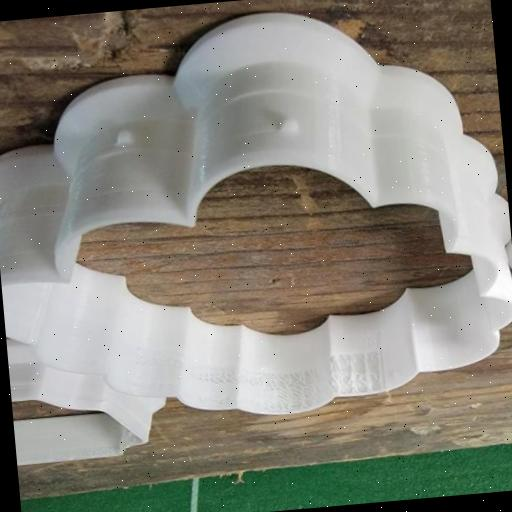blobs: (326, 351, 382, 395), (258, 367, 308, 411), (202, 364, 234, 389), (112, 126, 140, 150), (276, 112, 300, 138)
